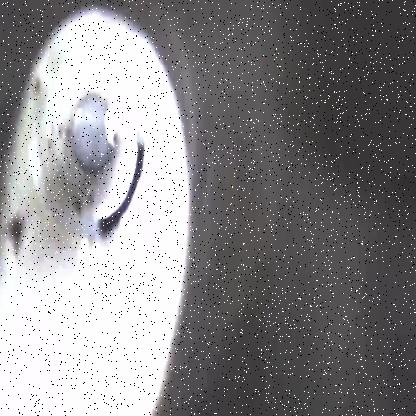Crack2: (96, 134, 150, 247)
